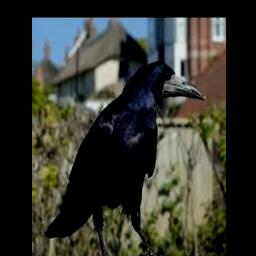Crow: (46, 58, 205, 256)
